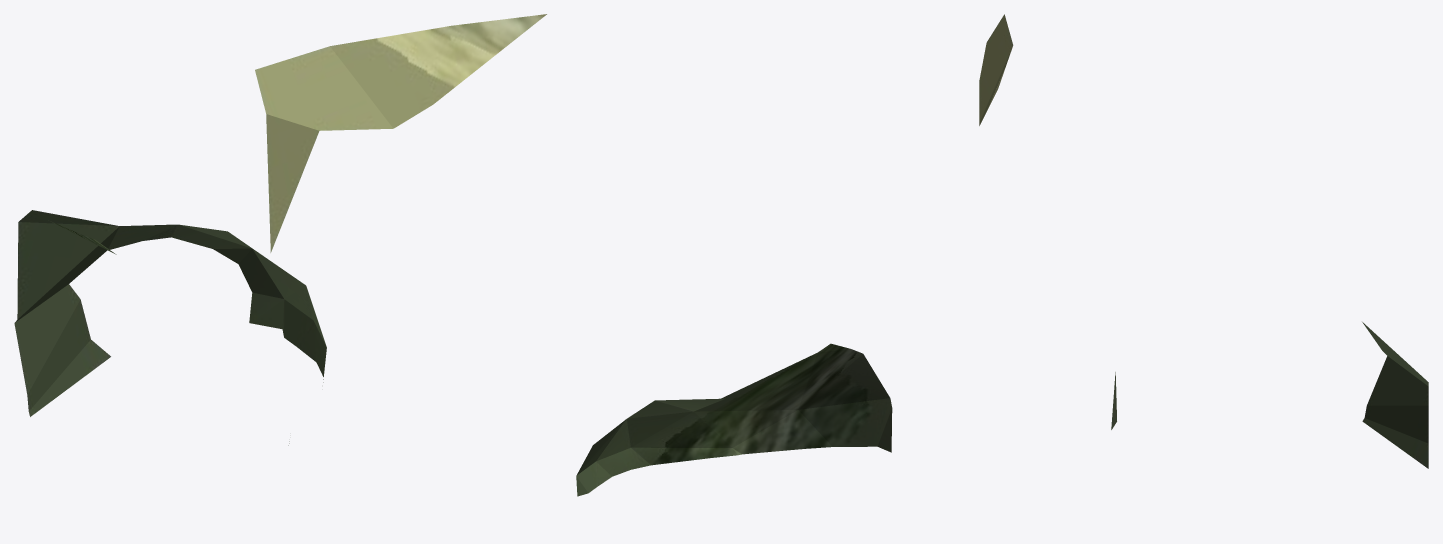
3 renders of one model, left to right at view 1: azimuth 30°, elevation 25°; view 2: azimuth 150°, elevation 25°; view 3: azimuth 270°, elevation 25°, orthographic. The views are drawn at different scales.
Size of the model in its own units: 1.7 by 2.95 by 2.95.
2 materials, 2 textured.
